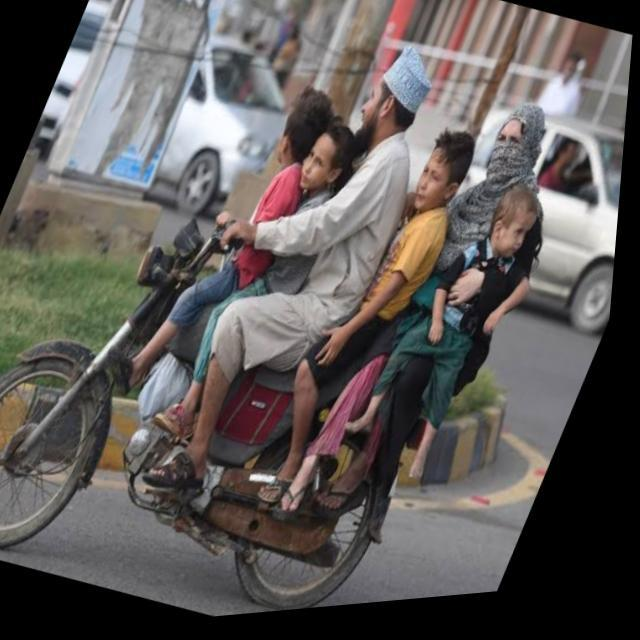Nonhelmet: (409, 120, 475, 212), (269, 90, 339, 174), (293, 118, 355, 202), (483, 176, 540, 266)
